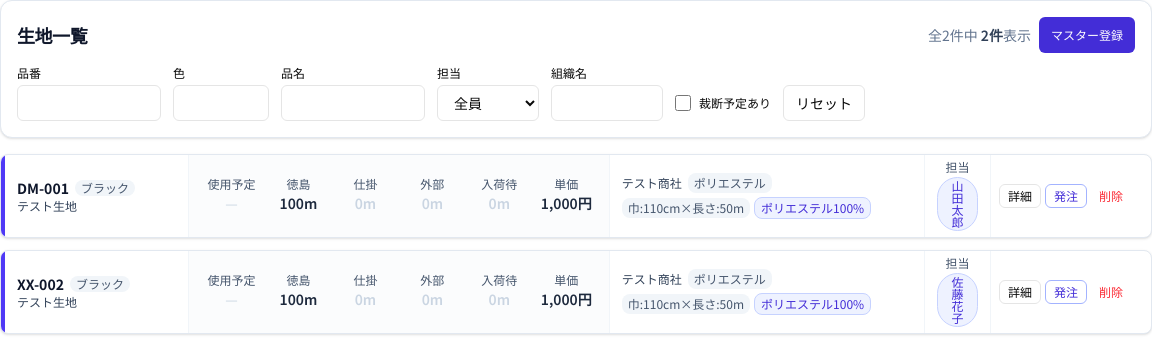
ProductListTable 担当者検索 › 担当者を選ぶとその担当の生地だけが表示される
The image size is (1152, 352).
Select "佐藤花子" in the dropdown labelled "担当" at (488, 103), box top-left (437, 85), bottom-right (539, 121)
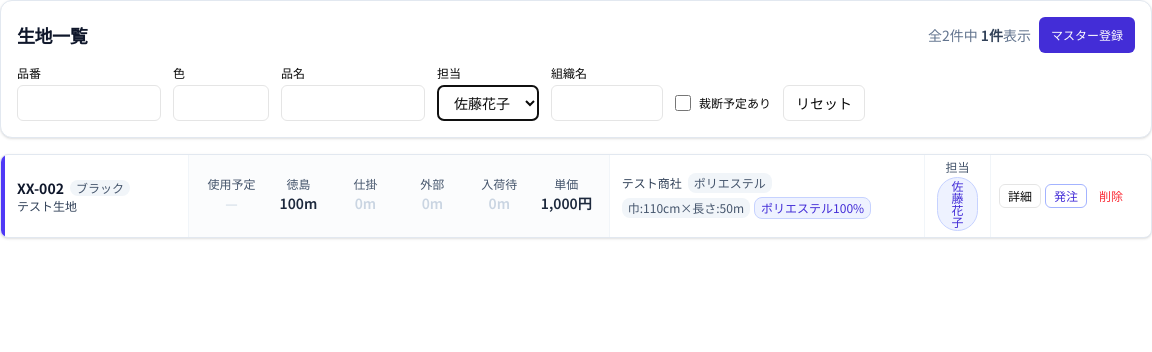
Expected: the text "XX-002" is shown, top-left (17, 181), bottom-right (64, 195)
Expected: the text "DM-001" is gone
